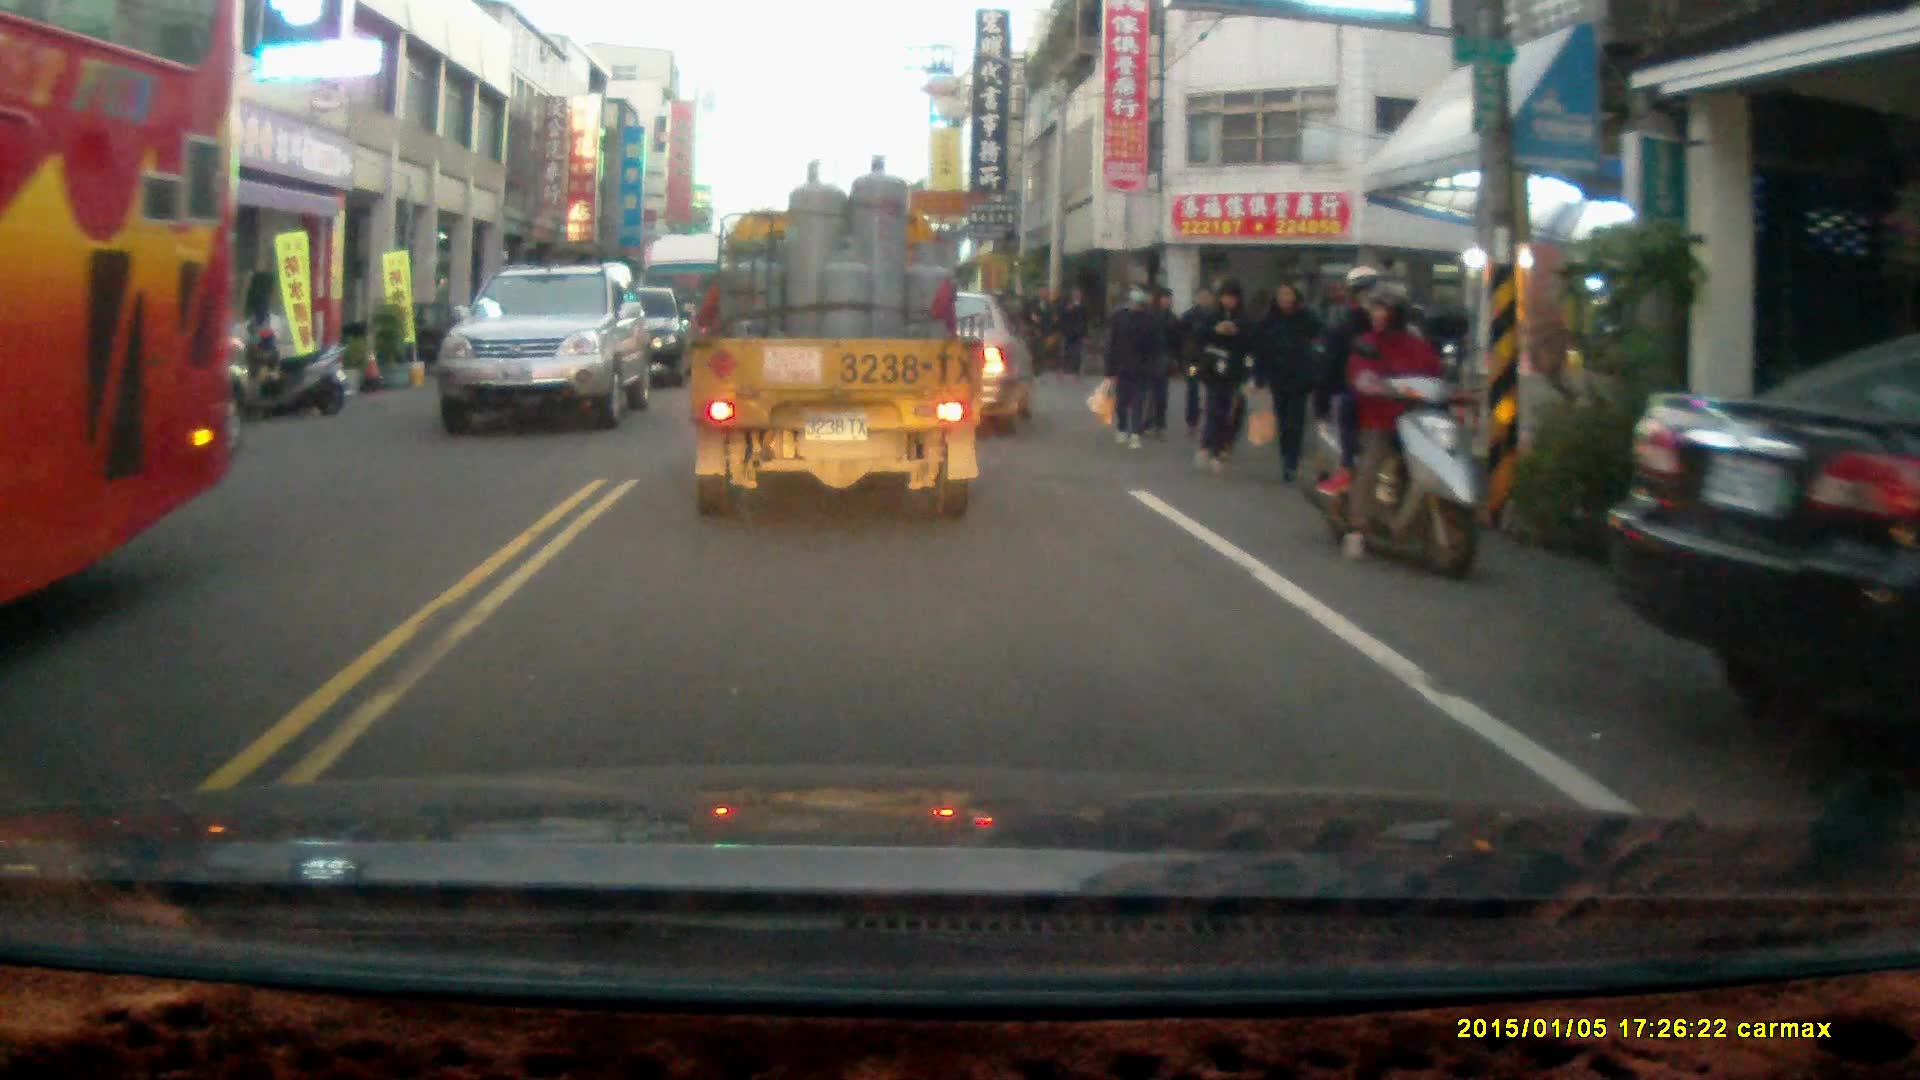pedestrian: (1246, 277, 1325, 475), (1191, 280, 1250, 473), (1101, 280, 1157, 452), (1174, 284, 1233, 434), (1135, 286, 1181, 434), (1055, 280, 1090, 379), (1024, 280, 1060, 378)
rider: (1294, 257, 1483, 569)
vehicle: (1, 7, 244, 617), (1619, 342, 1920, 750), (684, 152, 984, 524), (441, 263, 655, 433), (805, 285, 1043, 437)
